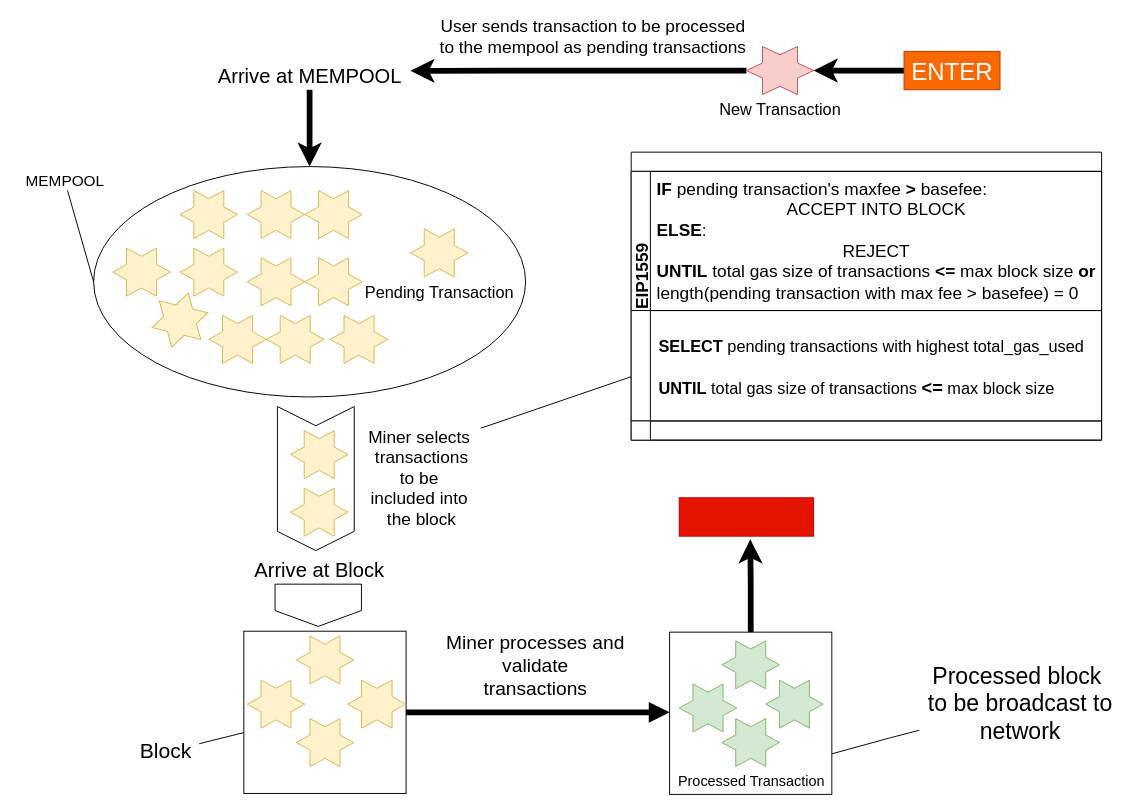
Some shapes in this 1137 by 811 pixel diagram are drawn without their labels. Here are the shapes that lost their labels. From the top down, the box of each, then its label:
(630, 151, 1102, 440): TRANSACTION SELECTION CONDITION
(630, 310, 1102, 421): LEGACY
(678, 497, 814, 536): REMOVE
